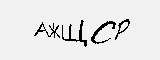А: (33, 21, 49, 40)
Ж: (48, 22, 62, 41)
Р: (116, 18, 133, 41)
С: (89, 19, 116, 45)
Щ: (61, 18, 89, 47)
